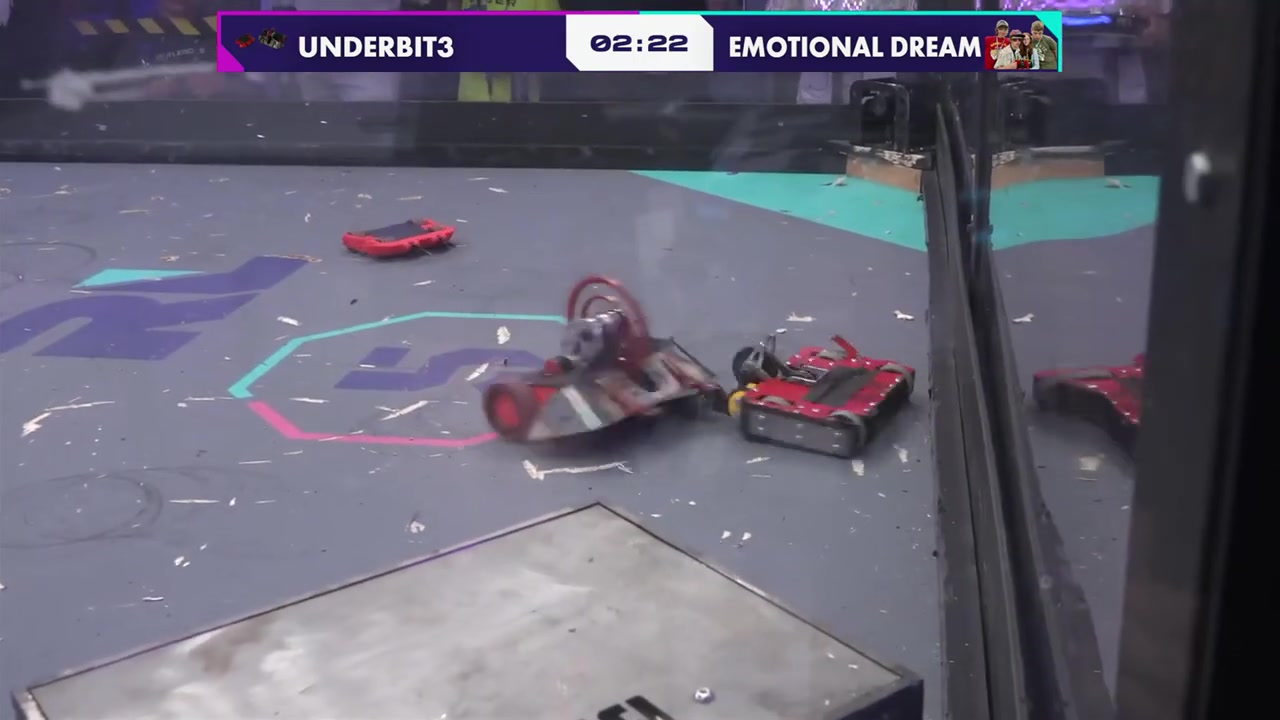combatbot: (483, 278, 723, 445), (725, 330, 918, 462)
housebot: (10, 500, 927, 720)
minibot: (338, 216, 462, 262)
